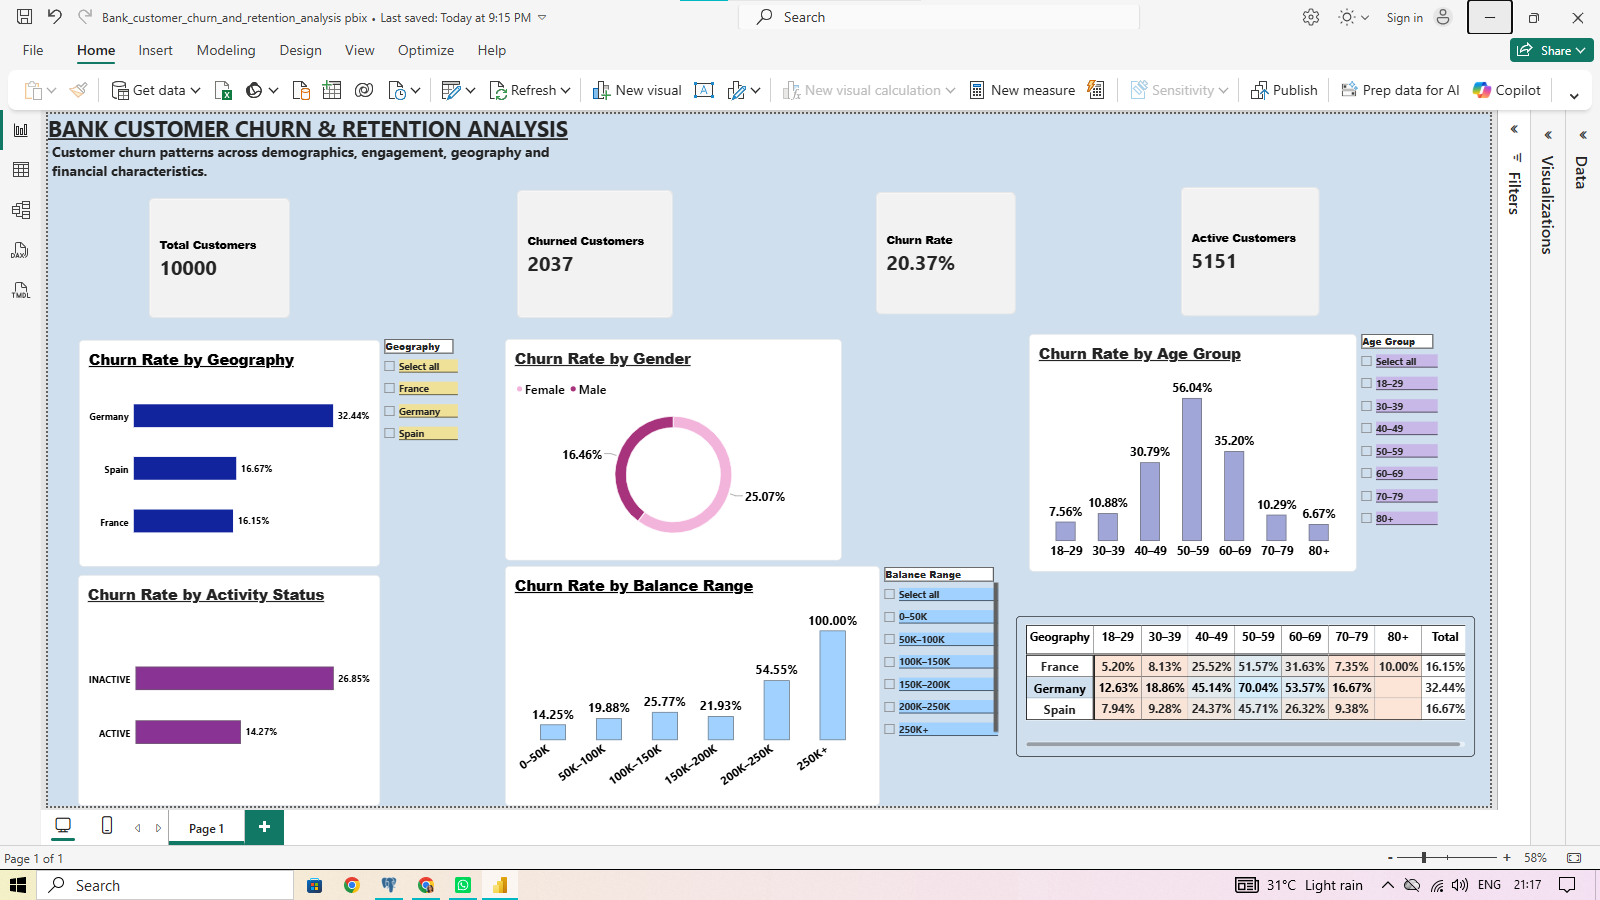

What the dashboard file says about the page in this screenshot:
{"tool":"powerbi","page":{"name":"Page 1","canvas":[2500,1200],"ordinal":0},"visuals":[{"type":"cardVisual","fields":{"Data":["Bank_Churn.Total Customers"]},"box":[176,146,244,208],"z":0},{"type":"cardVisual","fields":{"Data":["Bank_Churn.Churned Customers"]},"box":[814,132,270,222],"z":1000},{"type":"cardVisual","fields":{"Data":["Bank_Churn.Churn Rate"]},"box":[1436,136,242,212],"z":2000},{"type":"cardVisual","fields":{"Data":["Bank_Churn.Active Customers"]},"box":[1964,126,240,224],"z":3000},{"type":"clusteredBarChart","fields":{"Category":["Bank_Churn.Geography"],"Y":["Bank_Churn.Churn Rate"]},"box":[54,392,521.6,393.1],"z":4000},{"type":"donutChart","fields":{"Category":["Bank_Churn.Gender"],"Y":["Bank_Churn.Churn Rate"]},"box":[792,390,584,384],"z":5000},{"type":"clusteredColumnChart","fields":{"Category":["Bank_Churn.Age Group"],"Y":["Bank_Churn.Churn Rate"]},"box":[1702,382,568,412],"z":6000},{"type":"clusteredBarChart","fields":{"Category":["Bank_Churn.Activity Status"],"Y":["Bank_Churn.Churn Rate"]},"box":[52,800,524,400],"z":7000},{"type":"clusteredColumnChart","fields":{"Category":["Bank_Churn.Balance Range"],"Y":["Bank_Churn.Churn Rate"]},"box":[792,784,650,416],"z":8000},{"type":"pivotTable","fields":{"Columns":["Bank_Churn.Age Group"],"Rows":["Bank_Churn.Geography"],"Values":["Bank_Churn.Churn Rate"]},"box":[1678,870,796,244],"z":9000},{"type":"slicer","fields":{"Values":["Bank_Churn.Geography"]},"box":[576,390,135.4,197.5],"z":10000},{"type":"slicer","fields":{"Values":["Bank_Churn.Age Group"]},"box":[2505.7,317.1,270,282.9],"z":11000},{"type":"slicer","fields":{"Values":["Bank_Churn.Balance Range"]},"box":[1442,786,204.5,297.7],"z":12000},{"type":"slicer","fields":{"Values":["Bank_Churn.Age Group"]},"box":[2270,382,140,348],"z":12001},{"type":"textbox","box":[576,713,150,420],"z":12002},{"type":"textbox","box":[0,0,985.4,125.3],"z":12003}]}

Visuals, with their boxes on the page's 2500x1200 design canvas (x1, y1, x2, y2). These are canvas units, not pixel positions in the 1600x900 screenshot, which may show the page scaled, cropped or inside an application window:
cardVisual - Bank_Churn.Total Customers: (x1=176, y1=146, x2=420, y2=354)
cardVisual - Bank_Churn.Churned Customers: (x1=814, y1=132, x2=1084, y2=354)
cardVisual - Bank_Churn.Churn Rate: (x1=1436, y1=136, x2=1678, y2=348)
cardVisual - Bank_Churn.Active Customers: (x1=1964, y1=126, x2=2204, y2=350)
clusteredBarChart - Bank_Churn.Geography x Bank_Churn.Churn Rate: (x1=54, y1=392, x2=576, y2=785)
donutChart - Bank_Churn.Gender x Bank_Churn.Churn Rate: (x1=792, y1=390, x2=1376, y2=774)
clusteredColumnChart - Bank_Churn.Age Group x Bank_Churn.Churn Rate: (x1=1702, y1=382, x2=2270, y2=794)
clusteredBarChart - Bank_Churn.Activity Status x Bank_Churn.Churn Rate: (x1=52, y1=800, x2=576, y2=1200)
clusteredColumnChart - Bank_Churn.Balance Range x Bank_Churn.Churn Rate: (x1=792, y1=784, x2=1442, y2=1200)
pivotTable - Bank_Churn.Age Group x Bank_Churn.Geography: (x1=1678, y1=870, x2=2474, y2=1114)
slicer - Bank_Churn.Geography: (x1=576, y1=390, x2=711, y2=588)
slicer - Bank_Churn.Age Group: (x1=2506, y1=317, x2=2776, y2=600)
slicer - Bank_Churn.Balance Range: (x1=1442, y1=786, x2=1646, y2=1084)
slicer - Bank_Churn.Age Group: (x1=2270, y1=382, x2=2410, y2=730)
textbox: (x1=576, y1=713, x2=726, y2=1133)
textbox: (x1=0, y1=0, x2=985, y2=125)
